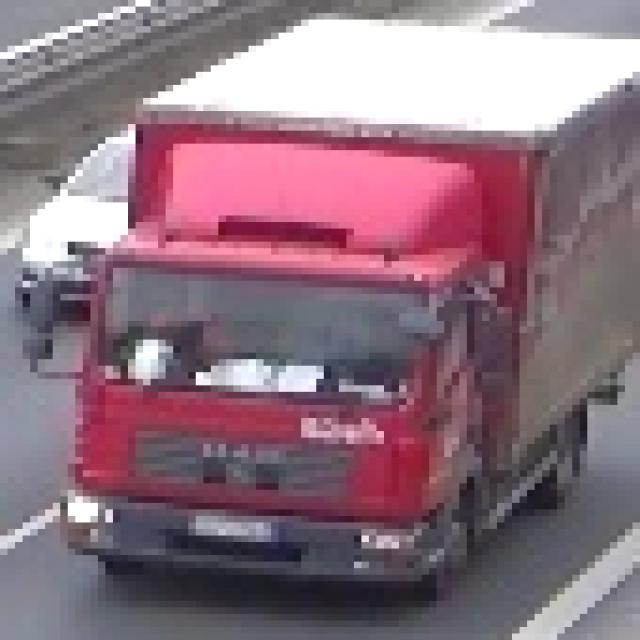truck: (16, 8, 634, 582)
